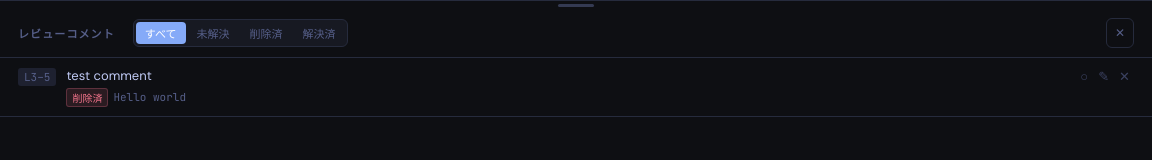
Test: CommentsPanel › もとの文章スナップショットの吹き出し › スナップショットが無い既存コメントでは代替メッセージを出す
The image size is (1152, 160).
Step 1. Click the button with test id "c-status" → point(87, 97), box [66, 88, 108, 107]
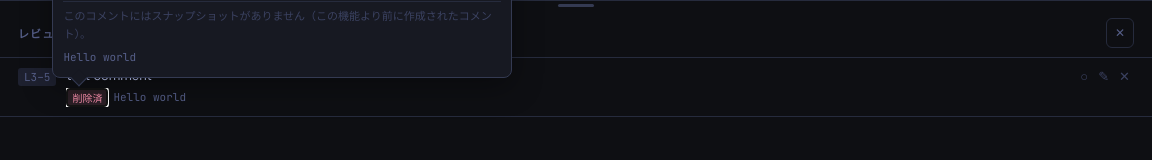
Now the element with test id "snapshot-empty" is shown, box [63, 8, 501, 67]
